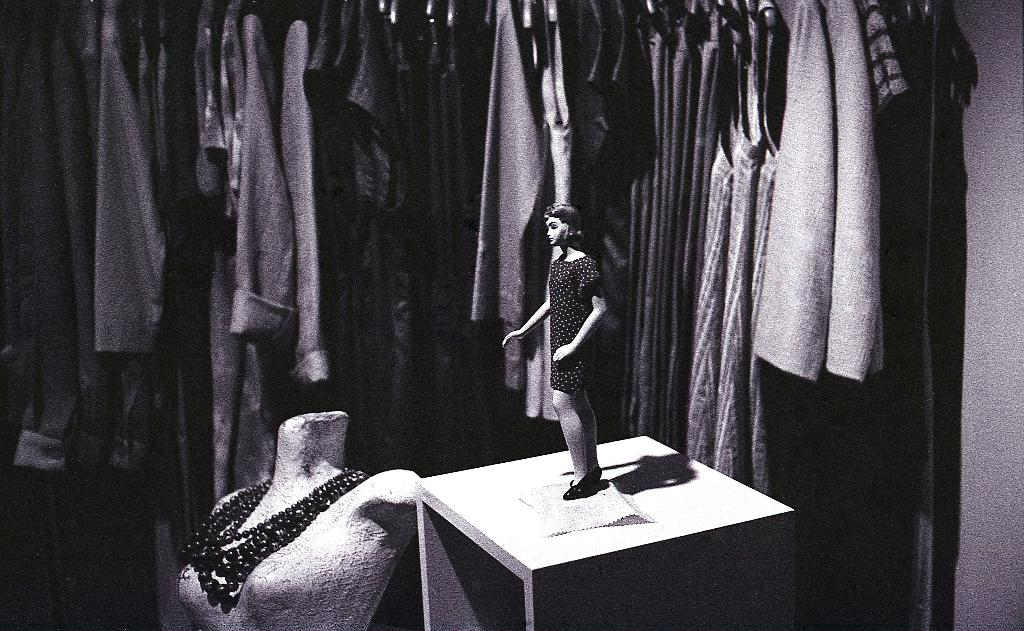Footwear: (564, 476, 598, 497)
